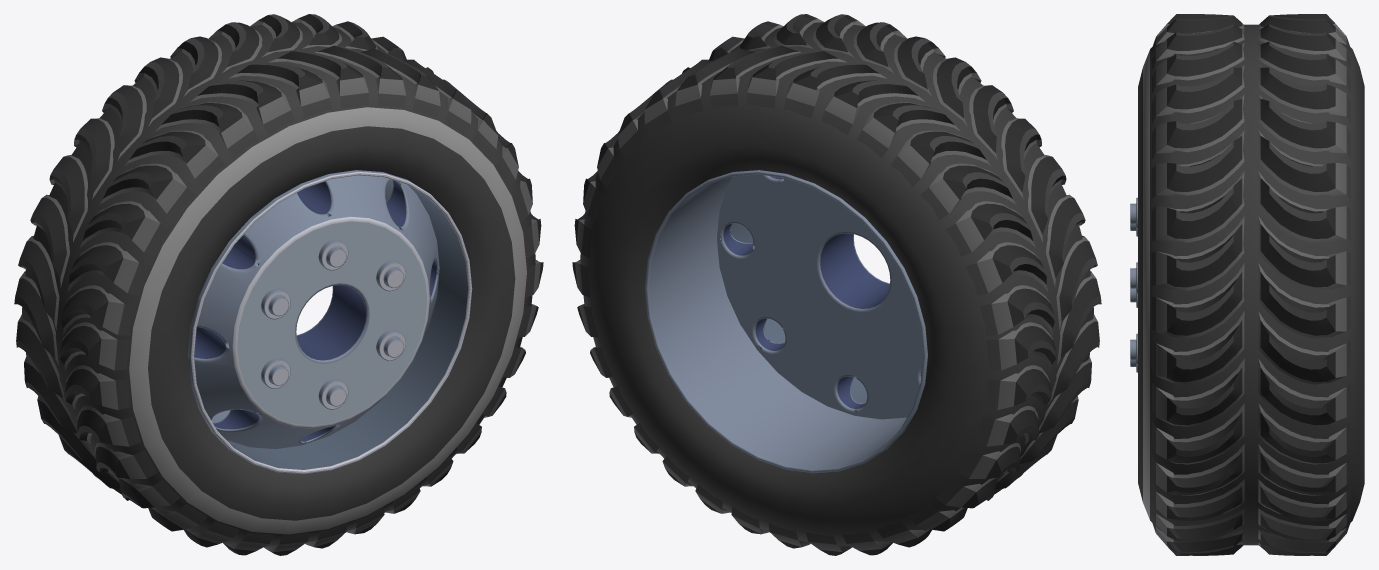
Rendered from wheel_12.fbx.
3 renders of one model, left to right at view 1: azimuth 30°, elevation 25°; view 2: azimuth 150°, elevation 25°; view 3: azimuth 270°, elevation 25°, orthographic. The views are drawn at different scales.
Visible parts, largest first — view 1: wheel_12; view 2: wheel_12; view 3: wheel_12.
Boxes of the visible parts, <box> form: wheel_12: <box>14,14,543,555</box>; wheel_12: <box>572,14,1101,555</box>; wheel_12: <box>1130,14,1364,555</box>.
Size of the model in its own units: 101 by 101 by 43.78.
